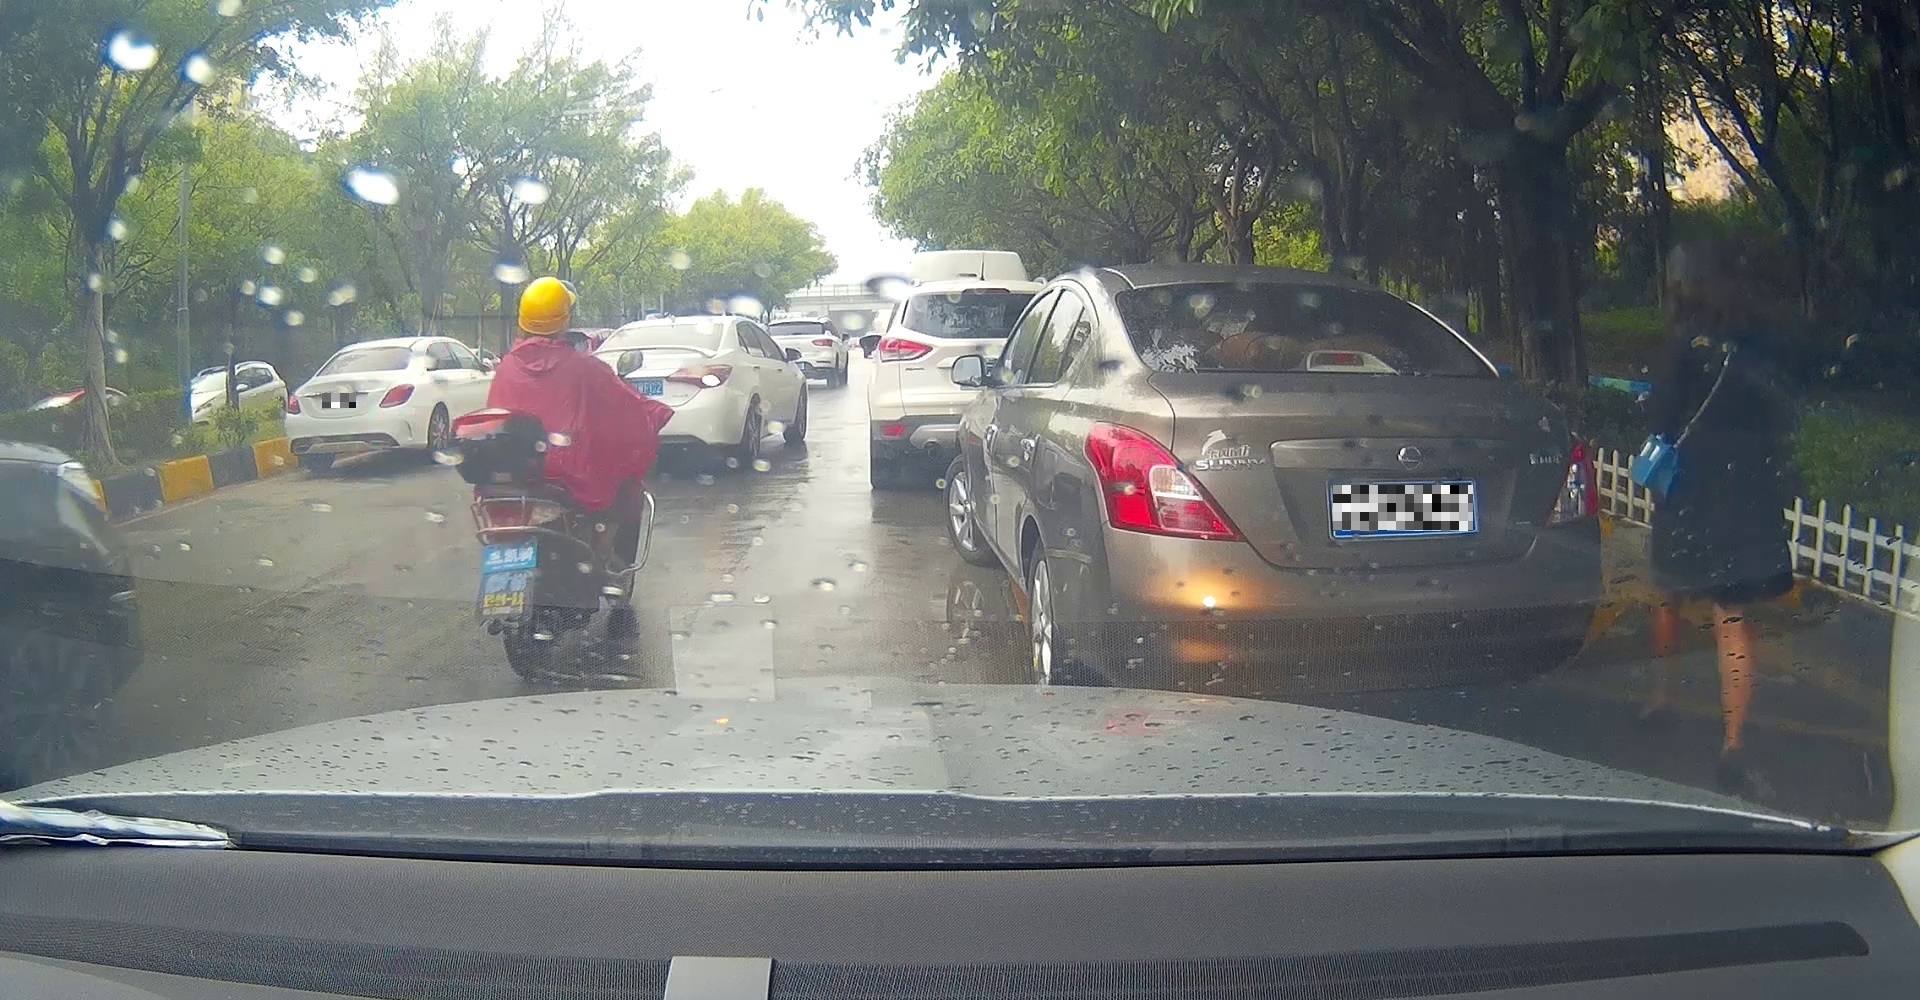L_light: (1081, 420, 1246, 543), (284, 393, 301, 415)
R_light: (1542, 434, 1600, 528), (378, 382, 414, 409)
T_light: (1312, 352, 1368, 368), (361, 349, 380, 353)
day-no: (1070, 269, 1601, 709), (282, 341, 425, 472)
plate_1: (323, 393, 356, 409)
plate_2: (1333, 485, 1473, 530)
